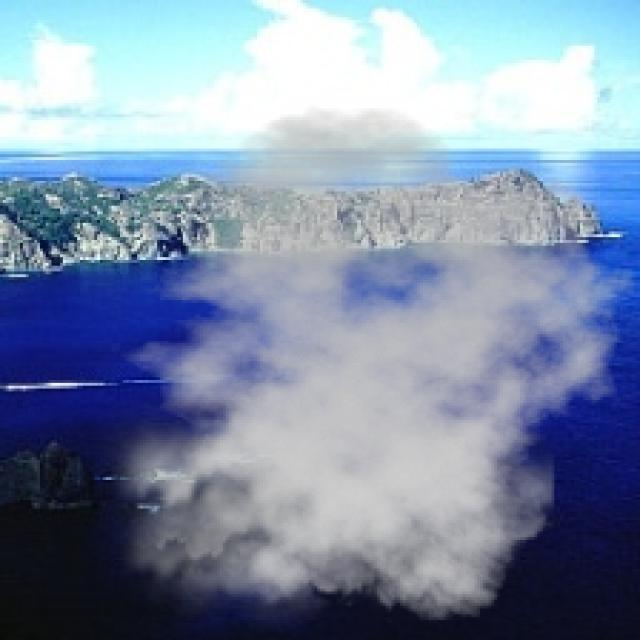smoke: (89, 106, 637, 637)
